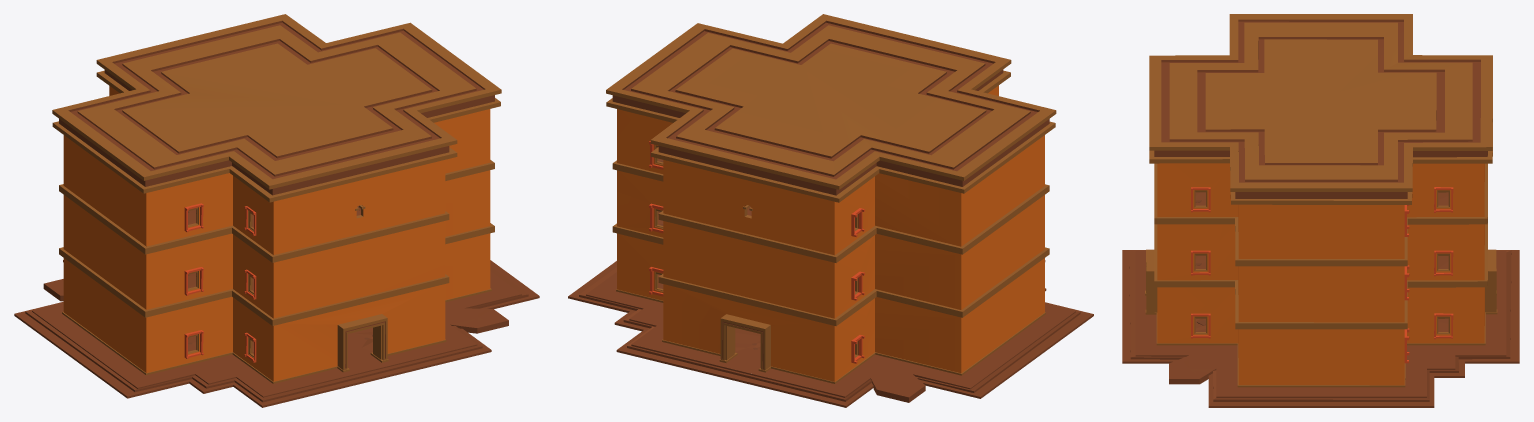
File: Lalibela_Ground.fbx
3 renders of one model, left to right at view 1: azimuth 30°, elevation 25°; view 2: azimuth 150°, elevation 25°; view 3: azimuth 270°, elevation 25°, orthographic.
Parts seen in each view (by area): view 1: Lalibela_Building_New, Lalibela_Ground_Steps; view 2: Lalibela_Building_New, Lalibela_Ground_Steps; view 3: Lalibela_Building_New, Lalibela_Ground_Steps.
Boxes of the visible parts, box(x1,y1,x2,y2) form: Lalibela_Building_New: box(32, 14, 521, 396); Lalibela_Ground_Steps: box(14, 260, 539, 407); Lalibela_Building_New: box(586, 14, 1075, 402); Lalibela_Ground_Steps: box(568, 260, 1093, 407); Lalibela_Building_New: box(1135, 14, 1506, 396); Lalibela_Ground_Steps: box(1122, 250, 1519, 407).
Size of what is drawn, in the model's own units: 3644 by 1759 by 3050.
